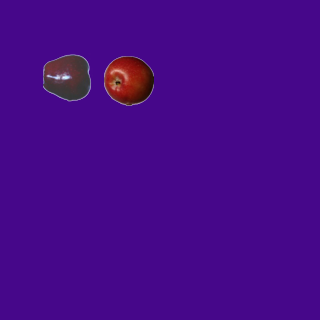Apple Braeburn: (103, 55, 153, 105)
Apple Red Delicious: (42, 52, 92, 102)
